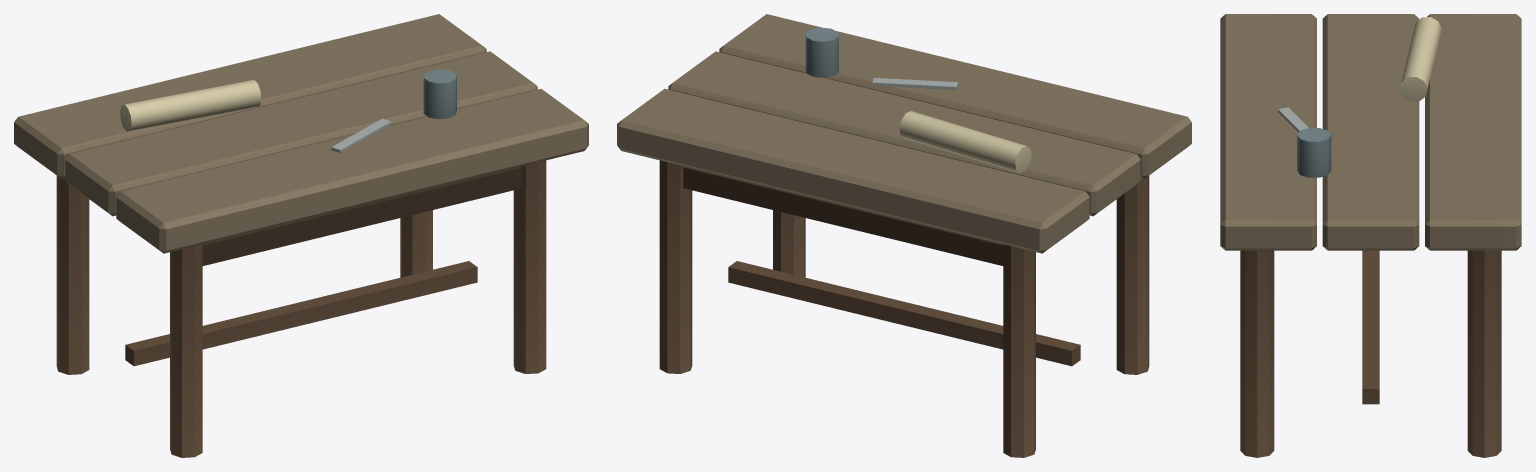
The model's file is table.glb.
The picture shows the model from 3 angles, left to right: view 1: azimuth 30°, elevation 25°; view 2: azimuth 150°, elevation 25°; view 3: azimuth 270°, elevation 25°; orthographic projection.
Visible parts, largest first — view 1: table; view 2: table; view 3: table.
Boxes of the visible parts, box(x1,y1,x2,y2) form: table: box(14, 14, 588, 457); table: box(617, 14, 1191, 457); table: box(1220, 14, 1521, 457).
Bounding box in the file's own units: 1.75 × 1.11 × 1.06.
